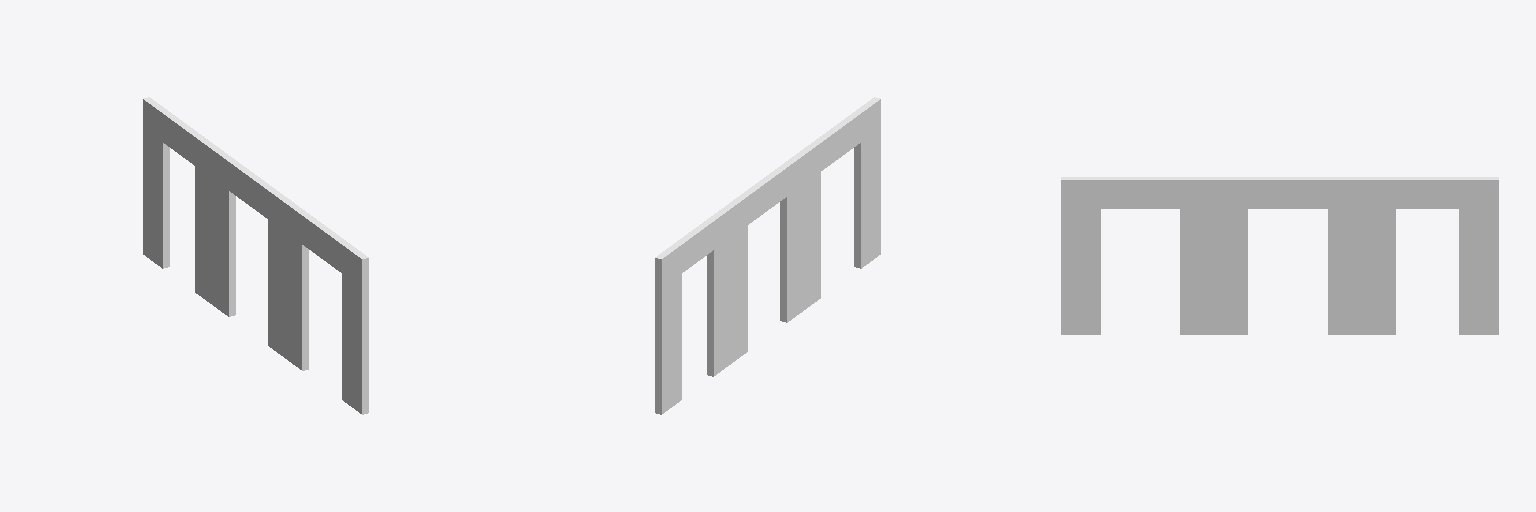
The model's file is Project1day-8.obj.
3 renders of one model, left to right at view 1: azimuth 30°, elevation 25°; view 2: azimuth 150°, elevation 25°; view 3: azimuth 270°, elevation 25°, orthographic.
Parts seen in each view (by area): view 1: object 1; view 2: object 1; view 3: object 1.
Boxes of the visible parts, <box> form: object 1: <box>143,97,368,414</box>; object 1: <box>655,97,880,414</box>; object 1: <box>1061,177,1498,334</box>.
Bounding box in the file's own units: 0.2 × 4.3 × 11.